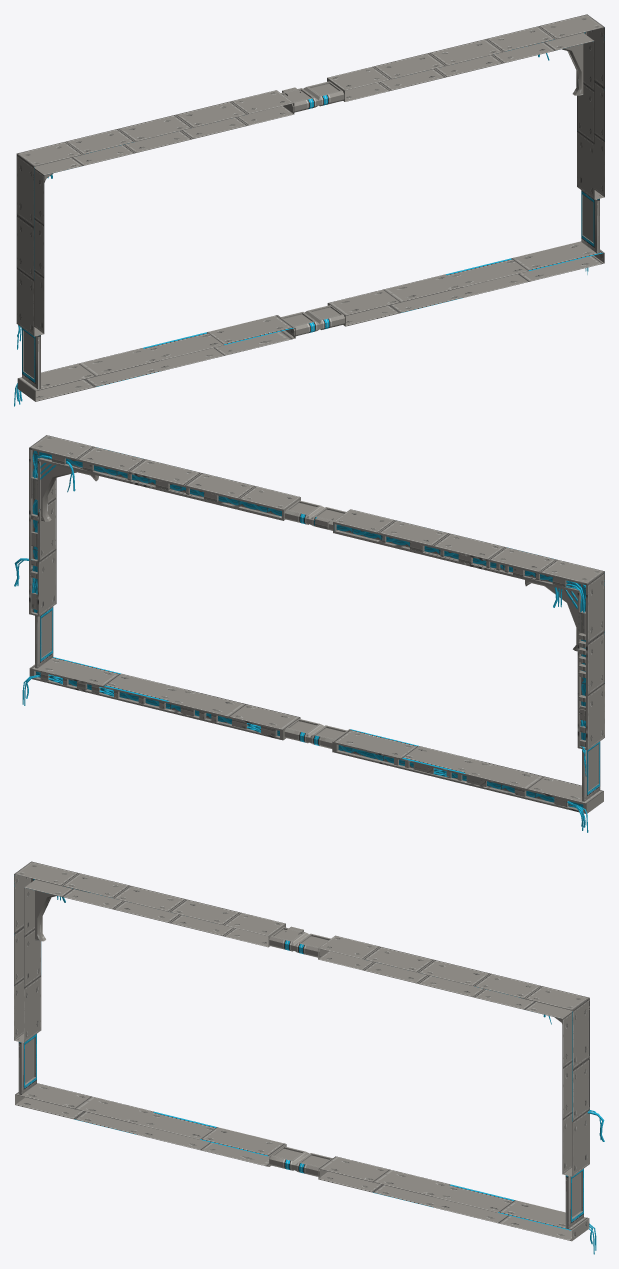
File: TestRoom6FBX.fbx
3 renders of one model, top to bottom at view 1: azimuth 30°, elevation 25°; view 2: azimuth 150°, elevation 25°; view 3: azimuth 330°, elevation 25°, orthographic. The views are drawn at different scales.
Parts seen in each view (by area): view 1: CornerBase11, CornerBase5, wallPiece3, wallPiece2, TopDoorLeft (×2), TopDoorRight (×2), LeftSideDoor, RightSideDoor, Arch3; view 2: CornerBase11, CornerBase5, wallPiece3, wallPiece2, TopDoorLeft (×2), LeftSideDoor, RightSideDoor, Arch3; view 3: CornerBase5, CornerBase11, wallPiece2, wallPiece3, TopDoorRight (×2), TopDoorLeft (×2), RightSideDoor, LeftSideDoor, Arch.
Part boxes in pixels (x1,y1,x2,y2): CornerBase11: (16,90,294,336); CornerBase5: (327,14,604,199); wallPiece3: (17,315,295,401); wallPiece2: (327,241,604,326); TopDoorLeft (×2): (303,81,345,329); TopDoorRight (×2): (281,88,319,336); LeftSideDoor: (581,190,599,253); RightSideDoor: (22,328,40,389); Arch3: (528,32,584,95); CornerBase11: (333,509,604,750); CornerBase5: (29,435,300,616); wallPiece3: (332,729,603,813); wallPiece2: (29,657,300,740); TopDoorLeft (×2): (284,500,324,743); LeftSideDoor: (35,606,53,668); RightSideDoor: (582,741,600,801); Arch3: (41,462,98,521); CornerBase5: (318,935,589,1176); CornerBase11: (14,861,285,1042); wallPiece2: (318,1156,589,1241); wallPiece3: (15,1083,286,1166); TopDoorRight (×2): (269,927,309,1170); TopDoorLeft (×2): (294,933,332,1177); RightSideDoor: (18,1034,36,1094); LeftSideDoor: (565,1169,583,1228); Arch: (35,879,89,941).
Size of the model in its own units: 57.55 by 24.67 by 3.71.
